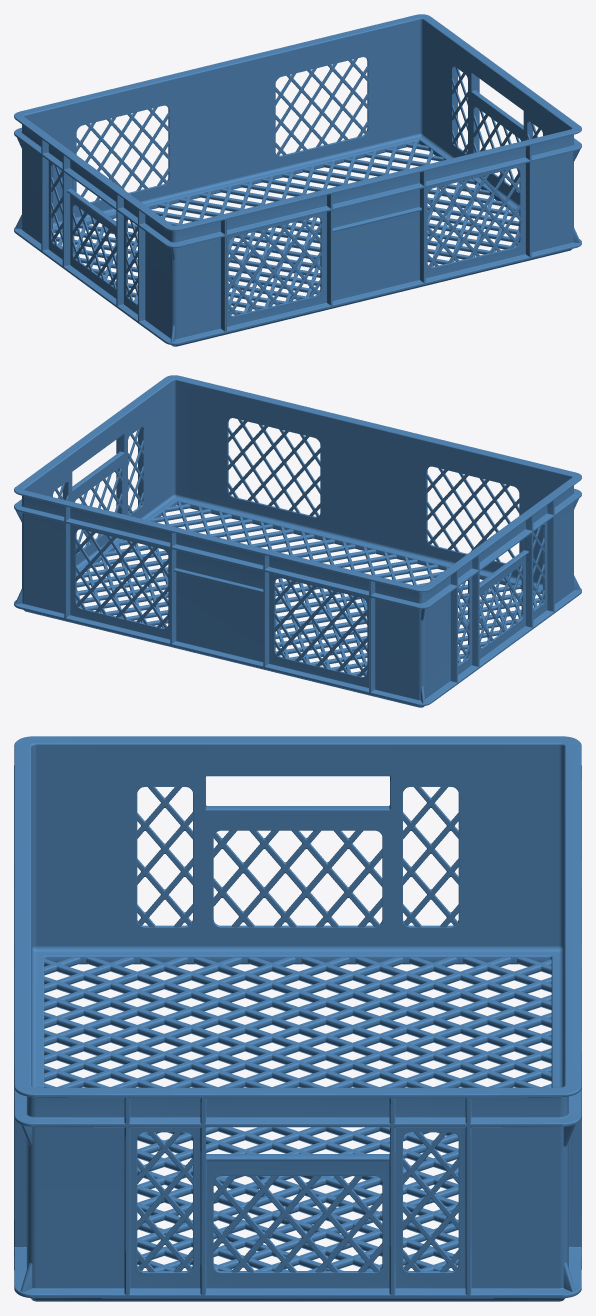
Rendered from crate_blue_a08.glb.
3 renders of one model, top to bottom at view 1: azimuth 30°, elevation 25°; view 2: azimuth 150°, elevation 25°; view 3: azimuth 270°, elevation 25°, orthographic. The views are drawn at different scales.
Bounding box in the file's own units: 0.6051 × 0.1703 × 0.4051.
